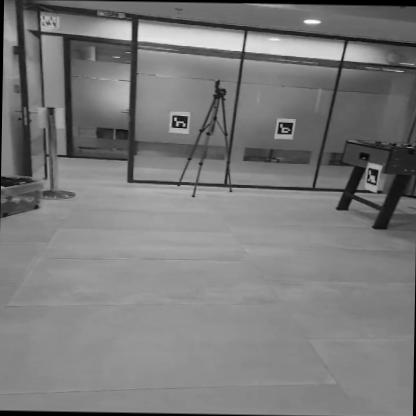open: (36, 38, 136, 187)
